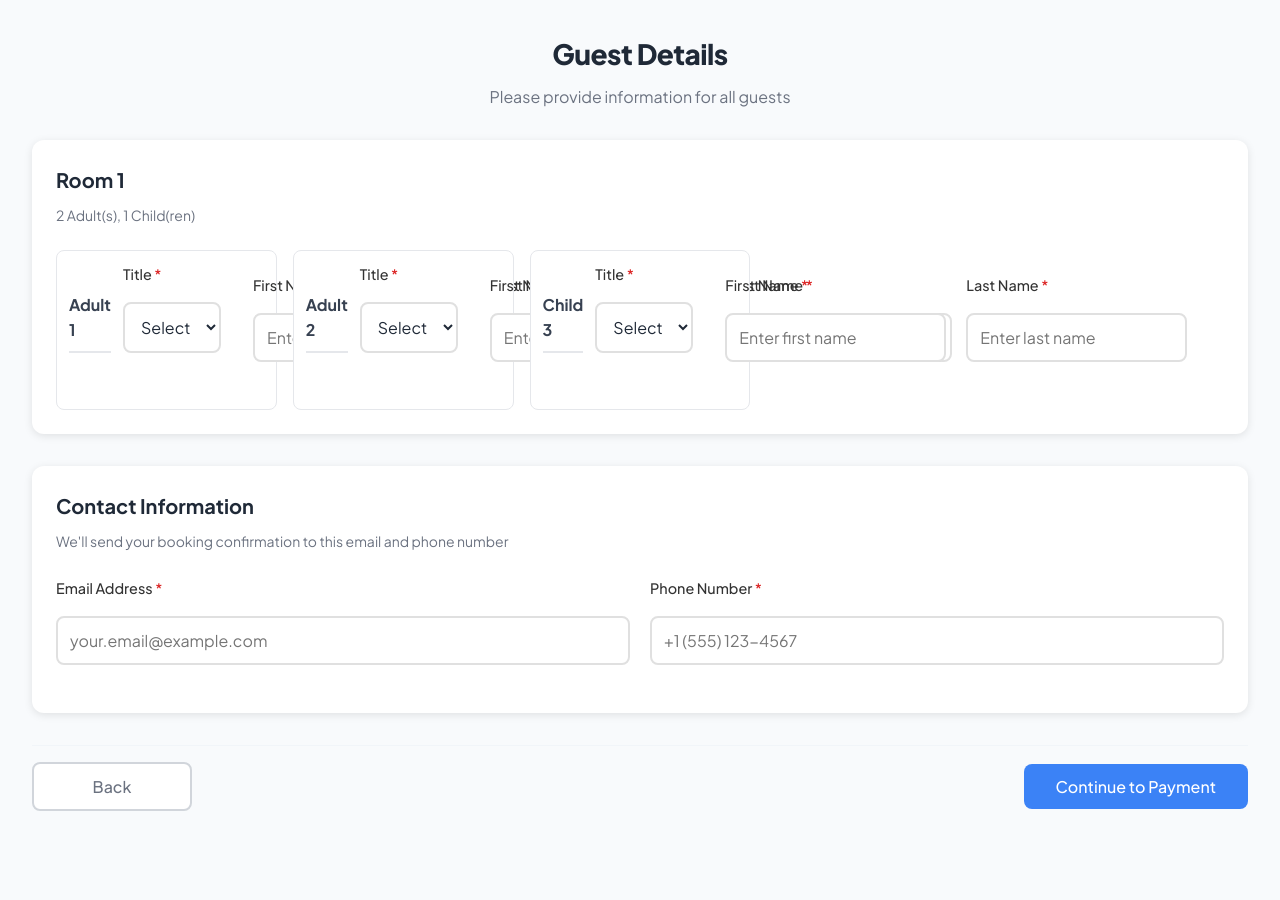
it: GuestDetailsForm › Form Validation › should show error when phone format is invalid
Type "123" into the field labelled "Phone Number *" at (937, 640), box [650,616,1224,665]
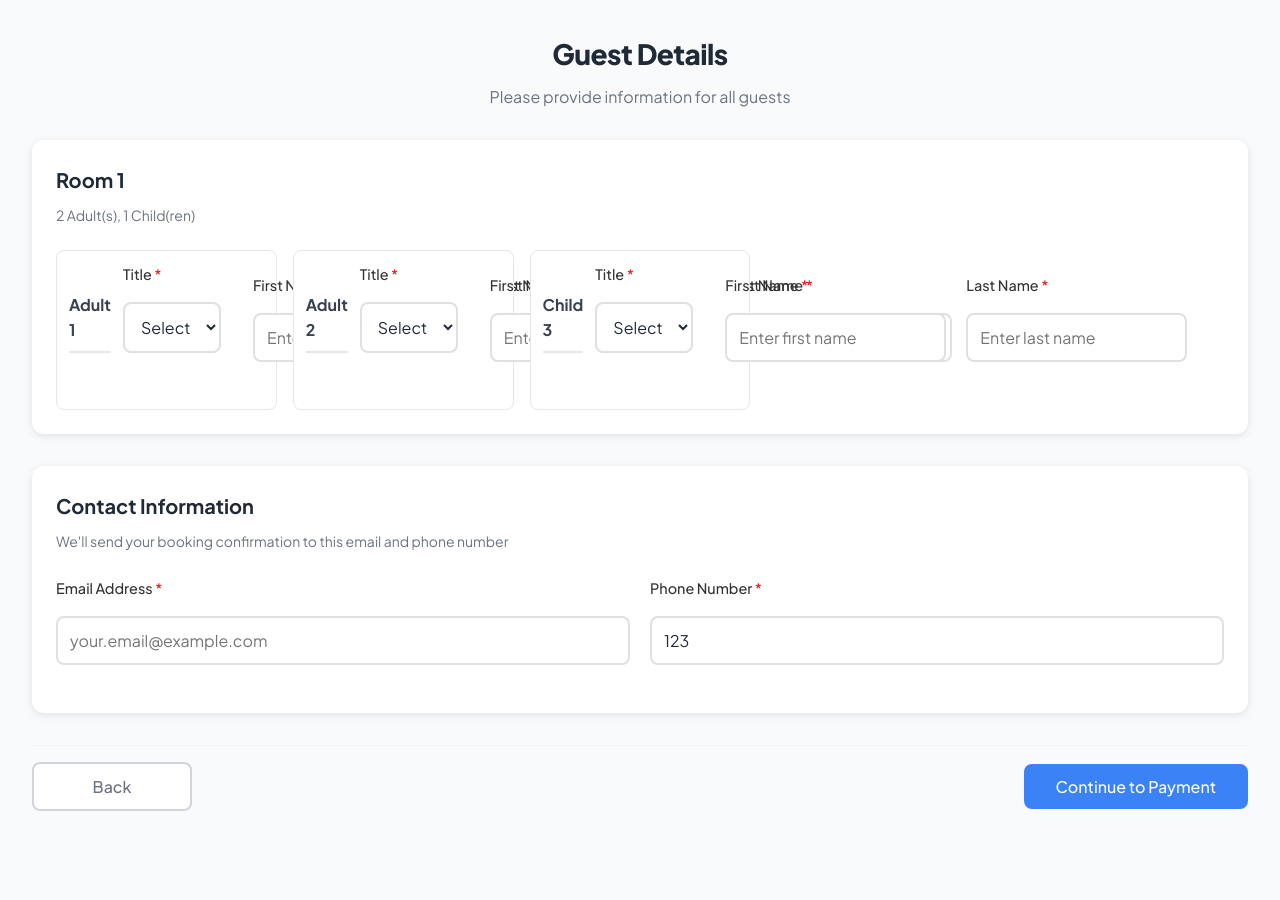
Click the button "Continue to Payment" at (1136, 786), box [1024,764,1248,809]
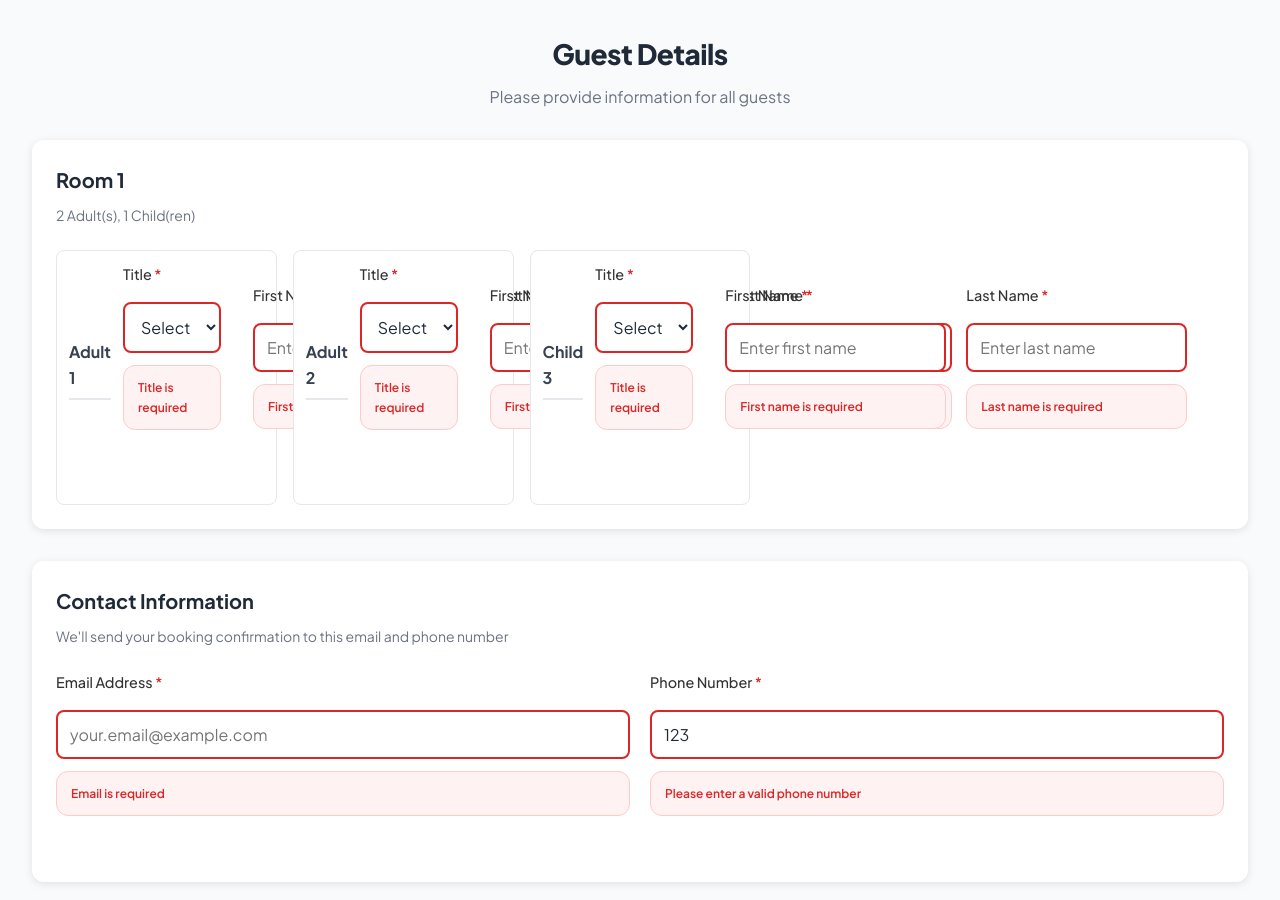
Now the text "Please enter a valid phone number" is shown, box [650,771,1224,816]
